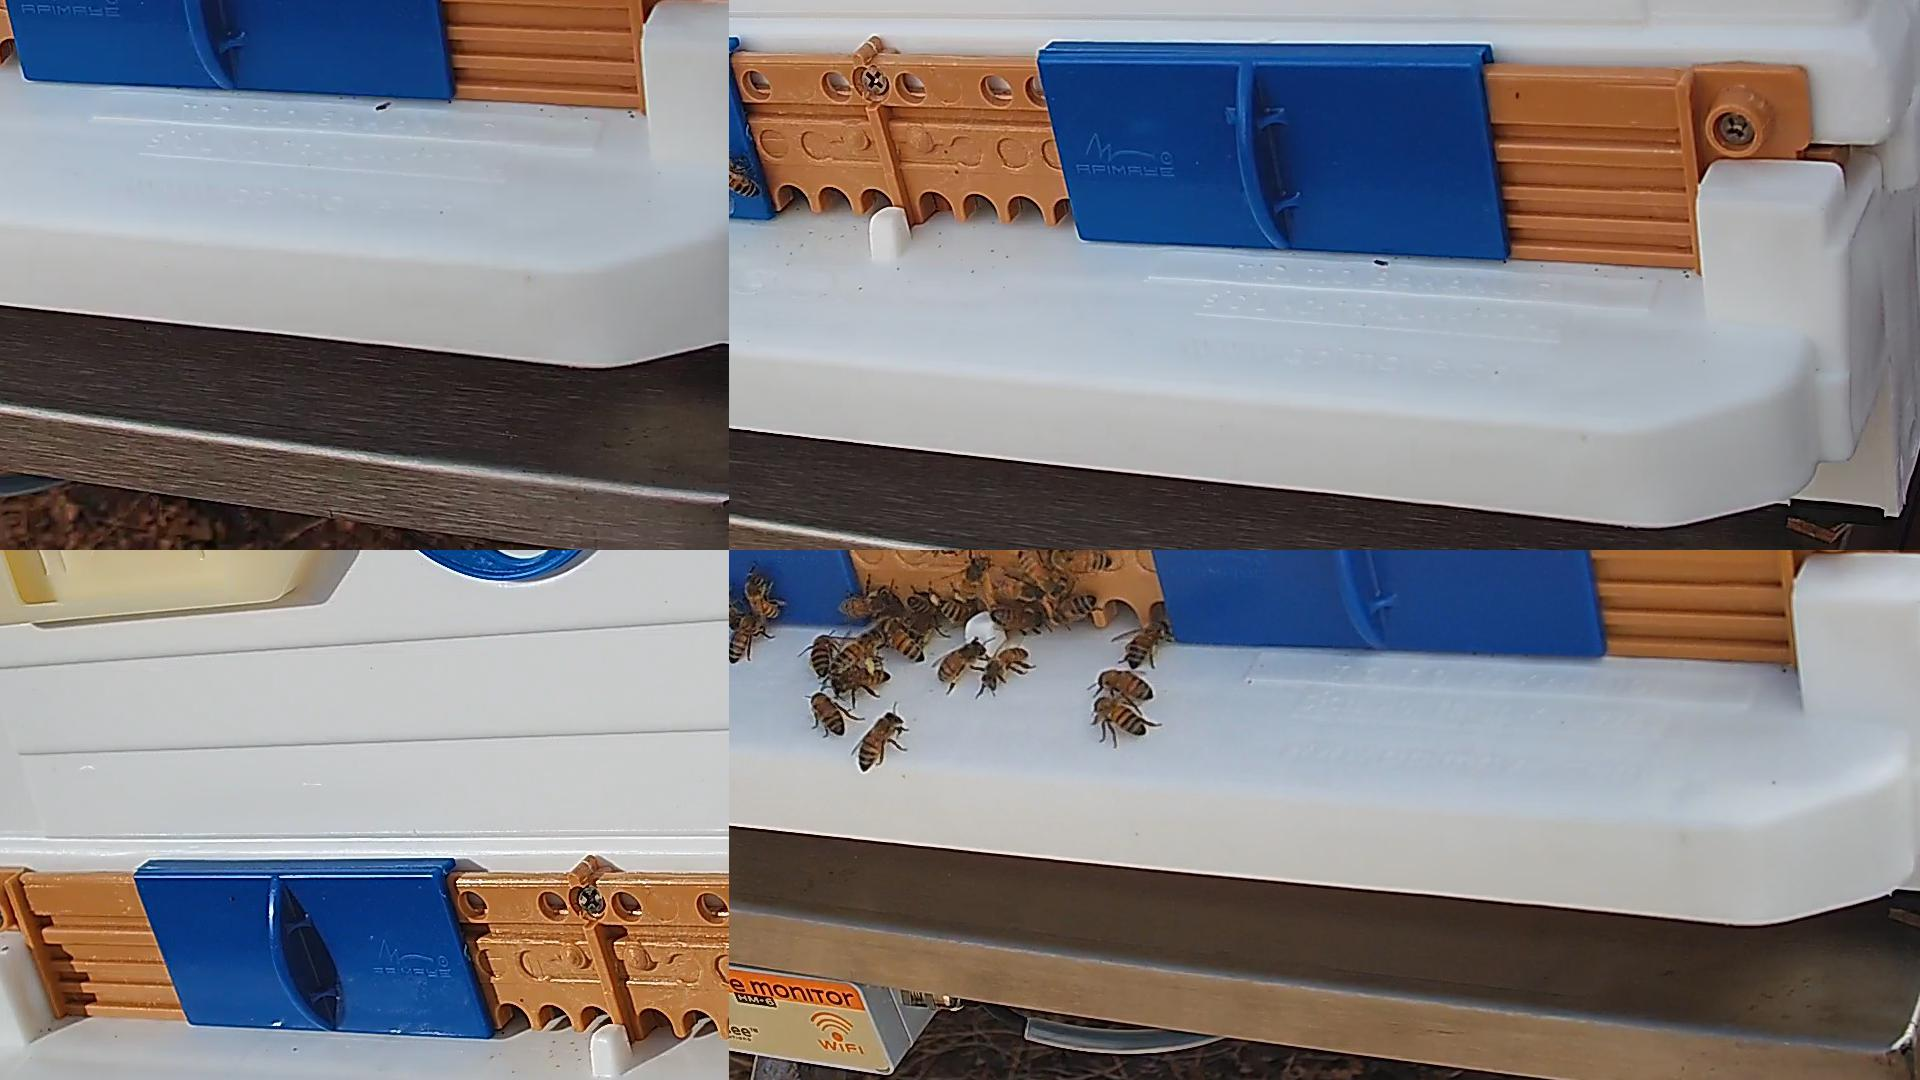bee: (860, 711, 899, 769), (1019, 551, 1064, 596), (938, 641, 988, 680), (982, 646, 1030, 687), (1093, 699, 1145, 736), (1129, 620, 1167, 669), (740, 574, 781, 617), (1100, 671, 1154, 700), (890, 617, 926, 661), (729, 616, 764, 661), (844, 589, 895, 617), (1046, 550, 1113, 571), (812, 692, 845, 735), (990, 607, 1046, 629), (1052, 593, 1098, 620), (729, 157, 760, 196), (835, 669, 890, 690), (996, 580, 1043, 601), (964, 556, 986, 599), (812, 636, 835, 675), (910, 596, 940, 620), (729, 593, 742, 625)
pollenbee: (833, 628, 884, 673), (931, 592, 980, 620)
